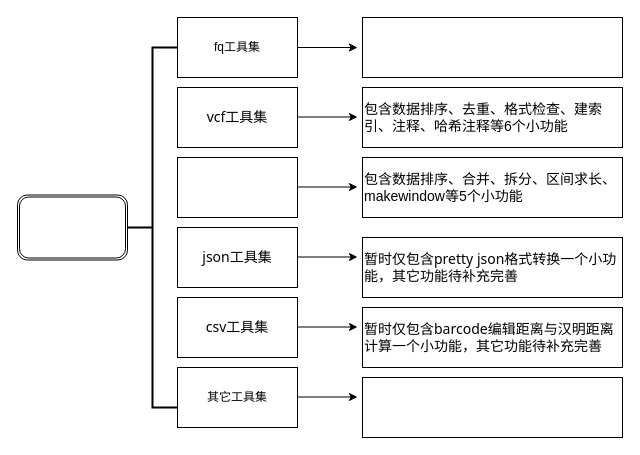
Image size: 640x455. Some labels were removed from this diagram. The box of each missing label's shape, as (x1, y1, x2, y2) in pixels:
bed 工具集: (176, 156, 298, 218)
geneCloudToolkit: (16, 194, 128, 260)
包含数据格式检查、 合并、截取、去重、剔除、 过滤、 拆分、重命名 等18个小功能: (362, 16, 622, 78)
暂时仅包含 多线程同步与序列比较两 个小 功能，其它功能待补充完善: (362, 376, 622, 438)
